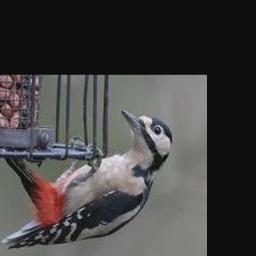Woodpecker: (2, 110, 173, 250)
